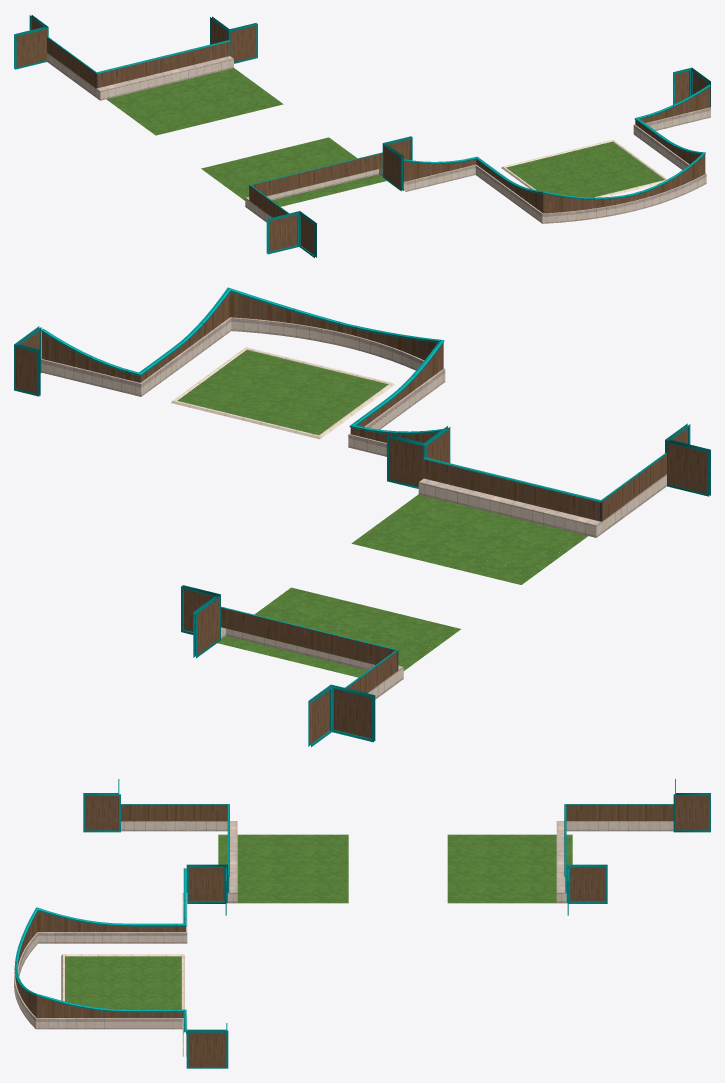
File: ExteriorGardenAssets_02.fbx
3 views of the same model, one above another, from view 1: azimuth 30°, elevation 25°; view 2: azimuth 150°, elevation 25°; view 3: azimuth 270°, elevation 25° (orthographic). The views are drawn at different scales.
Visible parts, largest first — view 1: ExteriorGardenAssets_02; view 2: ExteriorGardenAssets_02; view 3: ExteriorGardenAssets_02.
Part boxes in pixels (bbox=[...]): ExteriorGardenAssets_02: bbox=[14, 15, 710, 257]; ExteriorGardenAssets_02: bbox=[14, 287, 710, 747]; ExteriorGardenAssets_02: bbox=[14, 779, 710, 1068].
Bounding box in the file's own units: 6587 × 459 × 7624.
